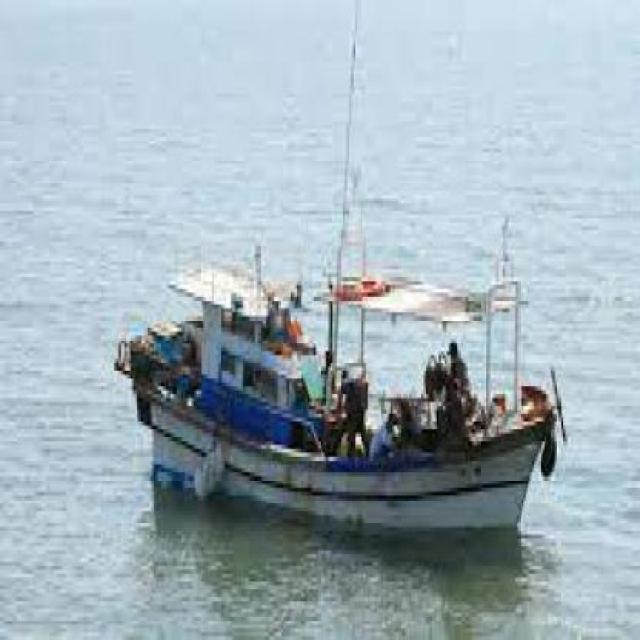fish-b: (100, 169, 573, 560)
